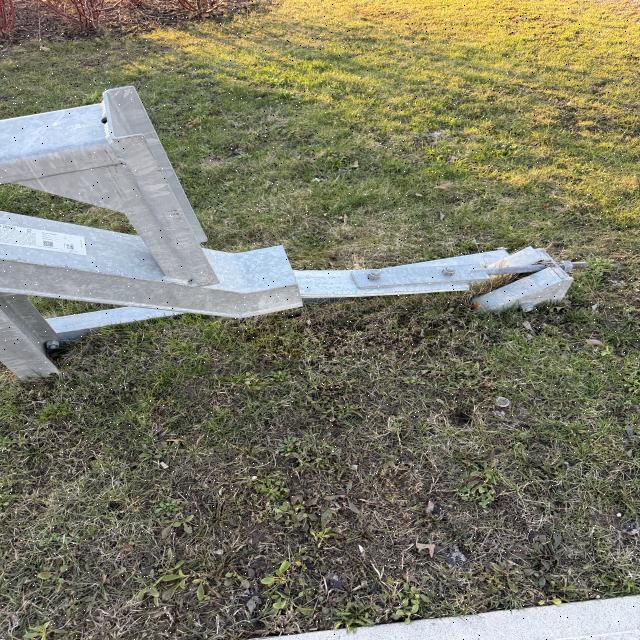Guard rail: (0, 101, 559, 353)
